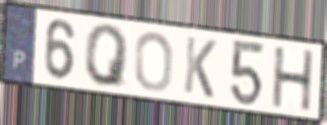5: (228, 37, 267, 107)
6: (44, 19, 78, 82)
H: (271, 45, 316, 114)
K: (182, 34, 219, 101)
O: (132, 30, 175, 94)
Q: (84, 23, 132, 90)
